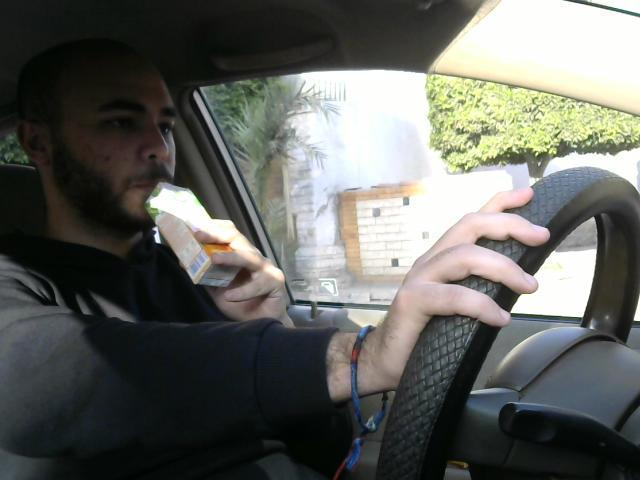Drinking: (19, 65, 244, 302)
